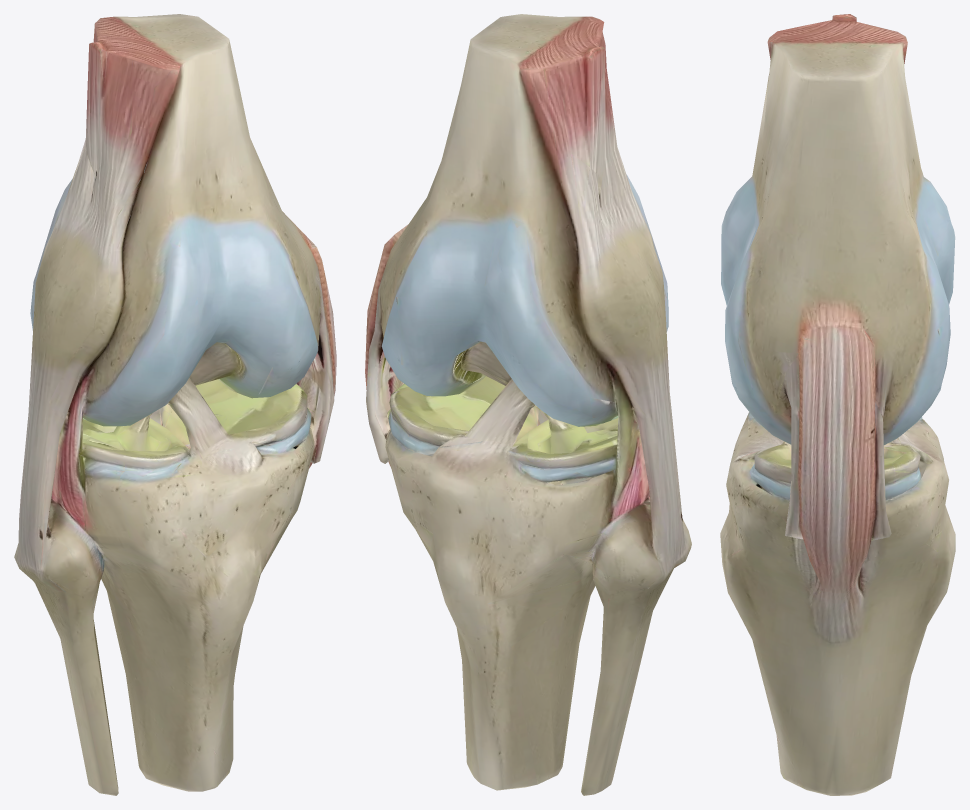
File: knee.glb
The picture shows the model from 3 angles, left to right: view 1: azimuth 30°, elevation 25°; view 2: azimuth 150°, elevation 25°; view 3: azimuth 270°, elevation 25°; orthographic projection. The views are drawn at different scales.
Visible parts, largest first — view 1: Mesh1.0; view 2: Mesh1.0; view 3: Mesh1.0.
Part boxes in pixels (x1=…): Mesh1.0: x1=14, y1=14, x2=336, y2=795; Mesh1.0: x1=365, y1=14, x2=691, y2=795; Mesh1.0: x1=720, y1=14, x2=955, y2=795.
Size of the model in its own units: 0.7944 by 1.91 by 0.5623.
Materials: 1 (1 with a texture image).
